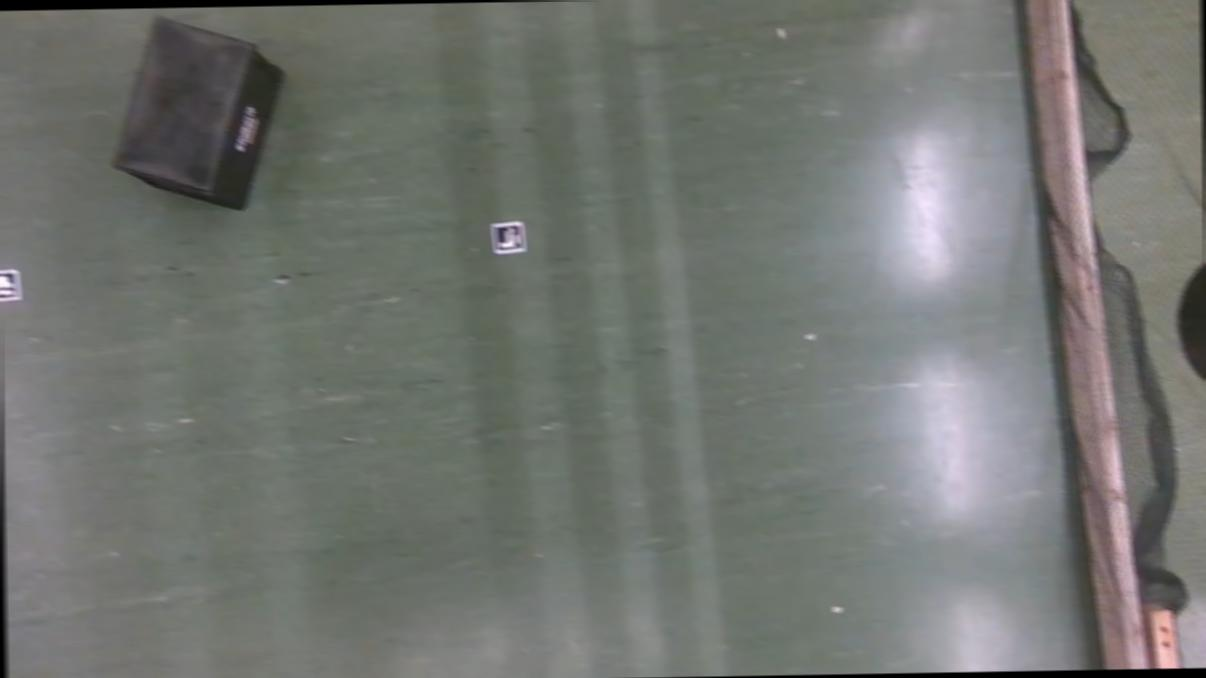rako: (111, 16, 282, 208)
